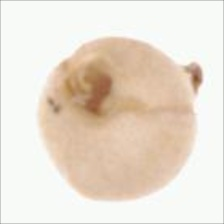L3: (61, 61, 116, 117)
L4: (39, 37, 200, 200)
